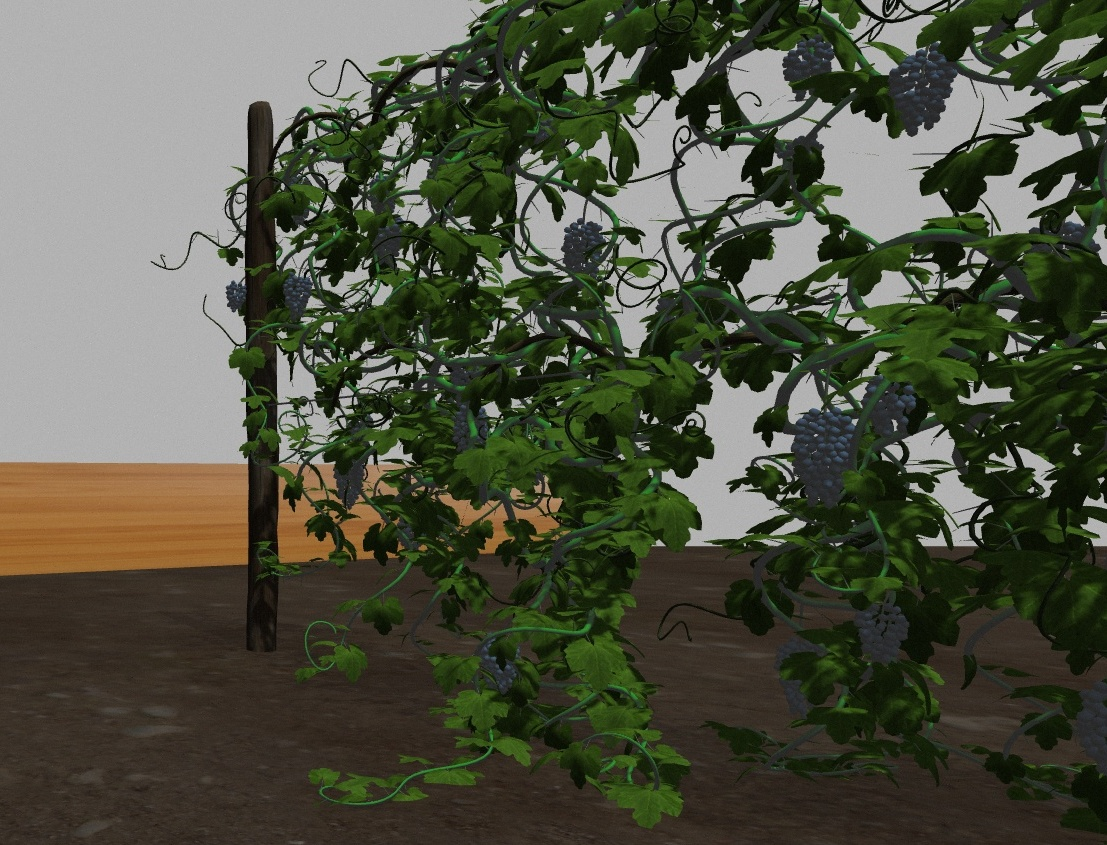grape: (791, 409, 856, 509), (889, 43, 956, 138), (854, 601, 910, 670), (772, 638, 818, 719), (861, 378, 916, 440), (781, 35, 834, 96), (560, 217, 606, 281), (1075, 685, 1106, 774), (481, 639, 522, 693), (331, 459, 365, 509), (281, 274, 314, 321), (372, 225, 402, 262), (223, 280, 250, 316)
